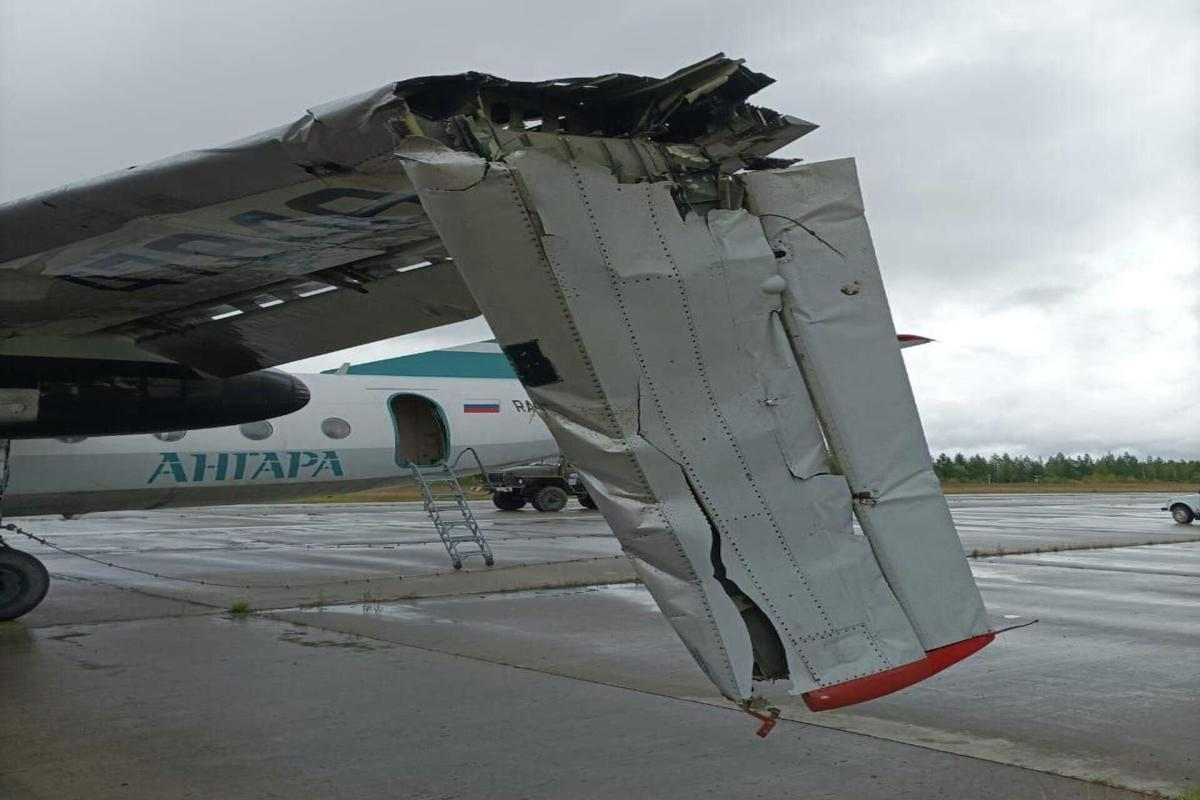Fuselage_damage: (632, 370, 796, 696), (383, 47, 823, 156), (399, 149, 863, 232), (175, 80, 424, 187), (733, 296, 848, 490), (766, 182, 871, 263), (524, 384, 634, 459), (570, 460, 676, 537), (622, 541, 715, 619), (852, 564, 924, 655), (853, 456, 948, 515), (772, 429, 845, 484), (603, 256, 689, 299), (525, 207, 565, 260), (850, 499, 873, 540)
